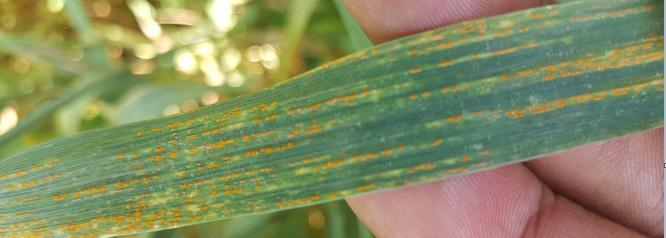Wheat: (71, 94, 343, 235), (485, 16, 663, 132)
